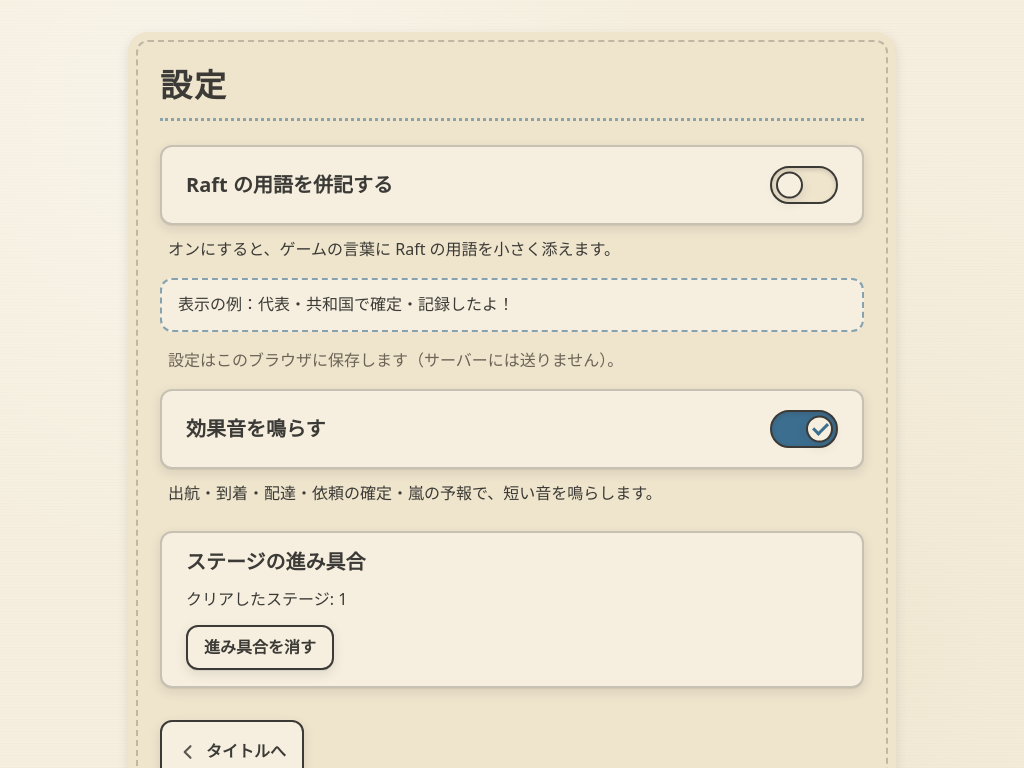
Test: SettingsScreen のステージの進み具合（T-703） › SE-U1 「やめる」では消えない
Step 1. Click the button "進み具合を消す" → (260, 647), box [186,625,334,670]
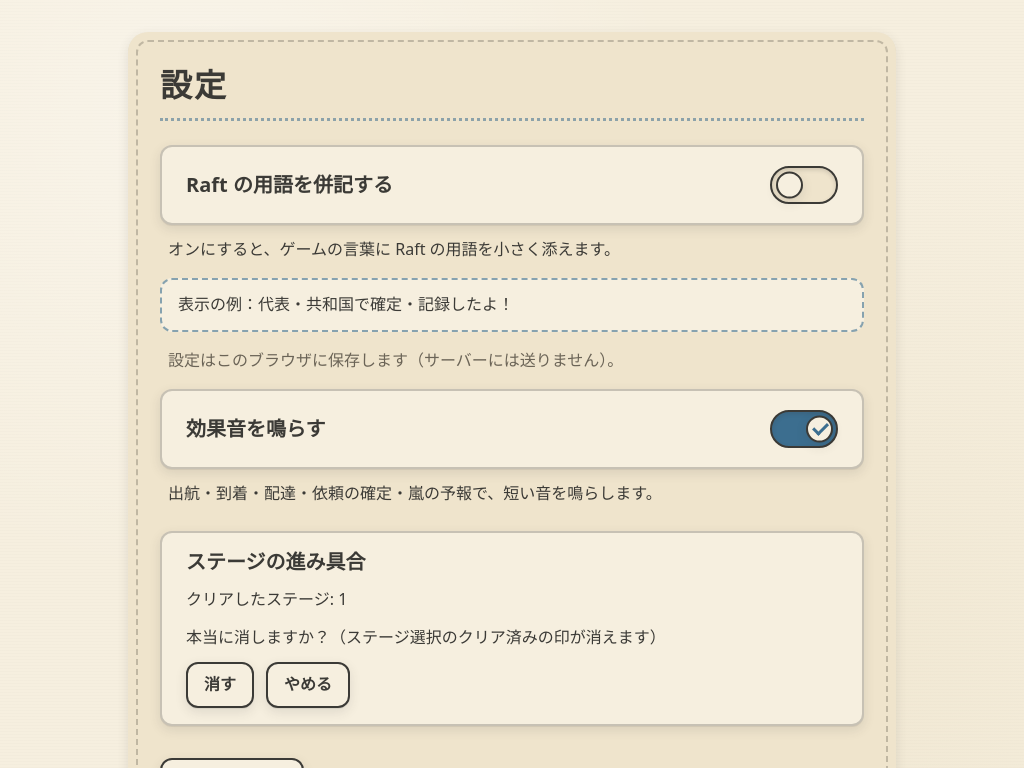
Step 2. Click the button "やめる" → (308, 685), box [266,662,350,708]
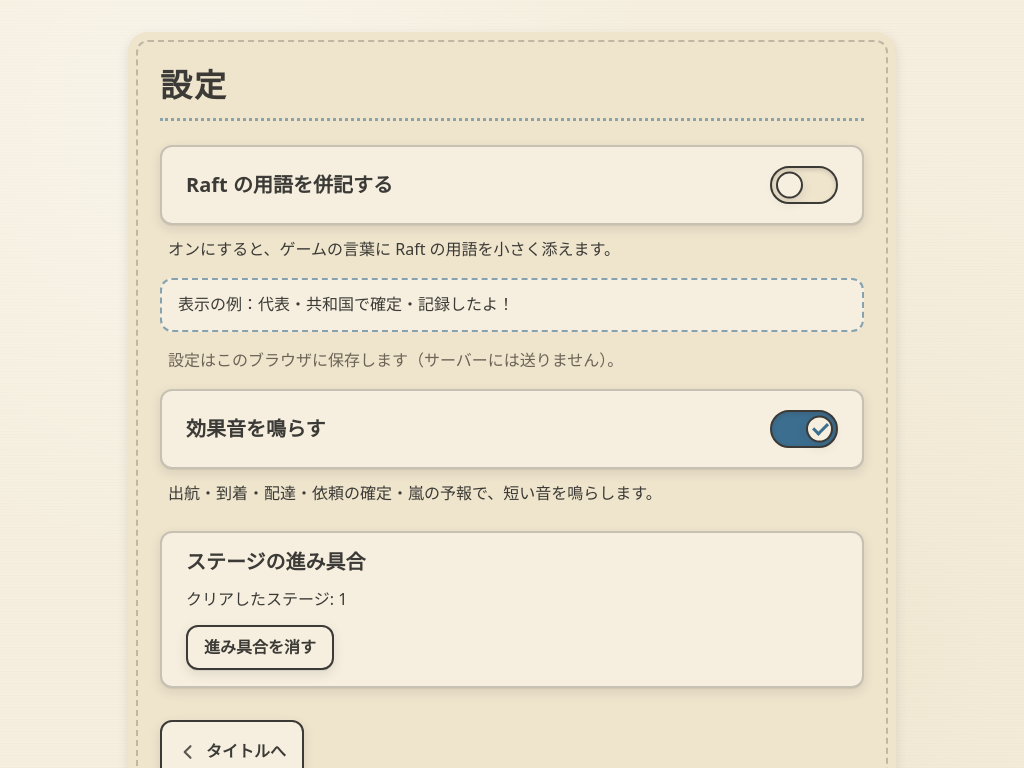
Expected: the text "クリアしたステージ: 1" is shown, [186,588,347,610]
Now the text "本当に消しますか？（ステージ選択のクリア済みの印が消えます）" is gone
Now the button "進み具合を消す" is enabled, box [186,625,334,670]
